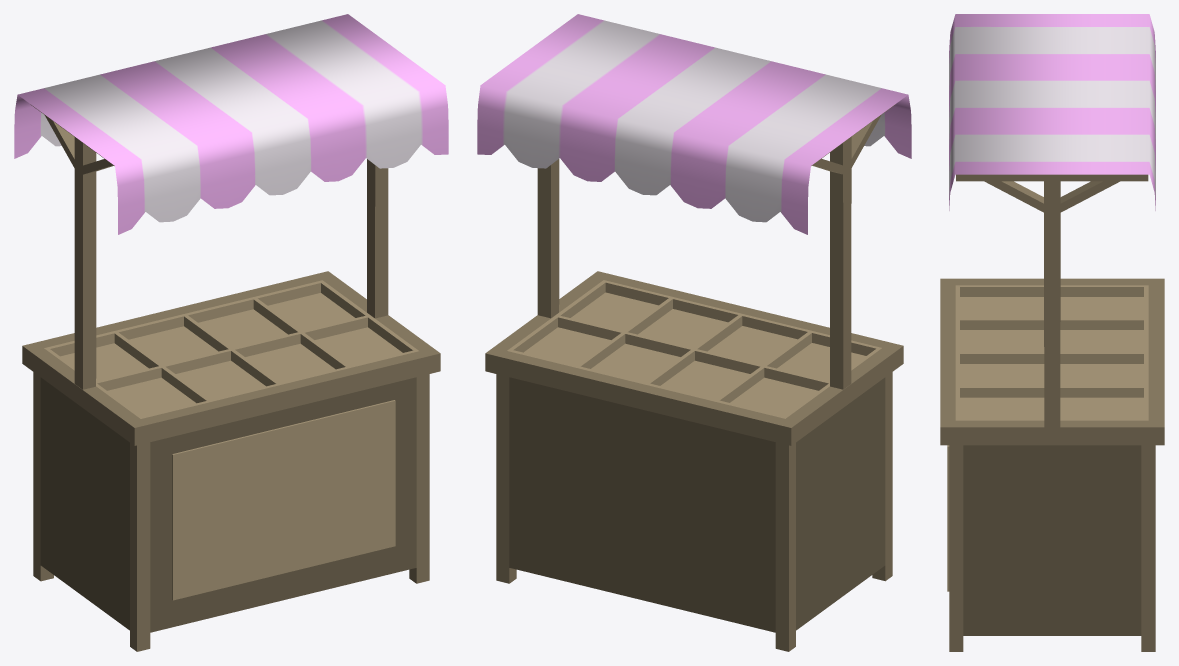
File: IceCreamStall.fbx
3 views of the same model, side by side, from view 1: azimuth 30°, elevation 25°; view 2: azimuth 150°, elevation 25°; view 3: azimuth 270°, elevation 25° (orthographic).
Visible parts, largest first — view 1: IceCreamStall, IceCreamStall_Top; view 2: IceCreamStall, IceCreamStall_Top; view 3: IceCreamStall, IceCreamStall_Top.
Boxes of the visible parts, <box> form: IceCreamStall: <box>22,104,440,651</box>; IceCreamStall_Top: <box>14,14,448,234</box>; IceCreamStall: <box>485,104,903,651</box>; IceCreamStall_Top: <box>477,14,911,234</box>; IceCreamStall: <box>940,174,1164,651</box>; IceCreamStall_Top: <box>949,14,1155,210</box>.
Size of the model in its own units: 23.77 by 33.55 by 14.
4 materials, 1 textured.
